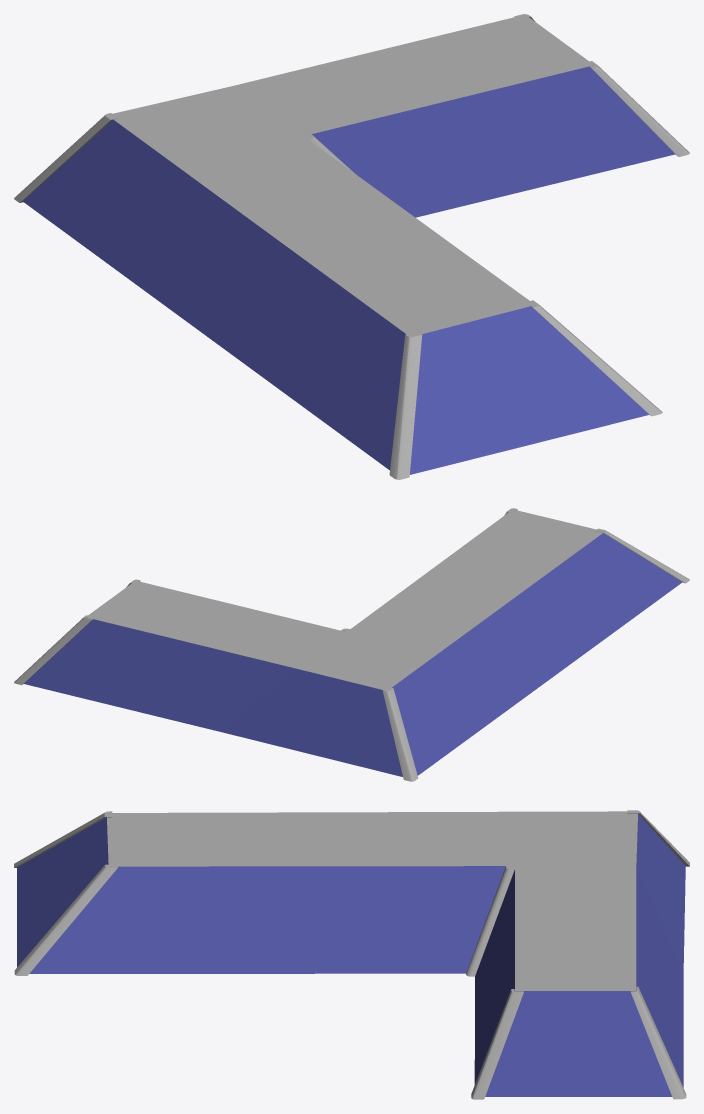
Rendered from shedroof.fbx.
The picture shows the model from 3 angles, top to bottom: view 1: azimuth 30°, elevation 25°; view 2: azimuth 150°, elevation 25°; view 3: azimuth 270°, elevation 25°; orthographic projection. The views are drawn at different scales.
Visible parts, largest first — view 1: pasted__roof, pCubeShape5; view 2: pasted__roof, pCubeShape5; view 3: pasted__roof, pCubeShape5.
Boxes of the visible parts, x1,y1,x2,y2 form: pasted__roof: (23,14,675,474); pCubeShape5: (14,14,689,479); pasted__roof: (24,510,681,776); pCubeShape5: (14,508,689,781); pasted__roof: (17,811,685,1096); pCubeShape5: (14,810,689,1099).
Bounding box in the file's own units: 923 × 143 × 1107.
